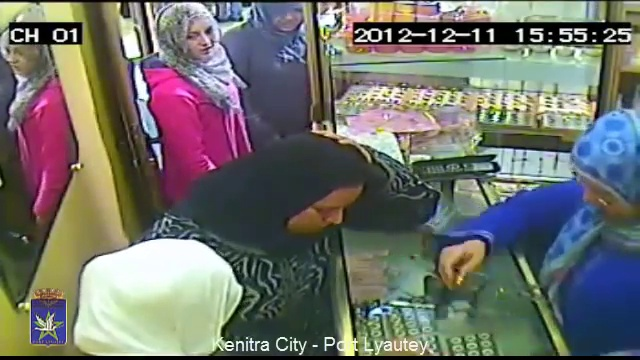face: (277, 172, 367, 242), (576, 155, 640, 223), (187, 16, 217, 57), (270, 0, 306, 29)
